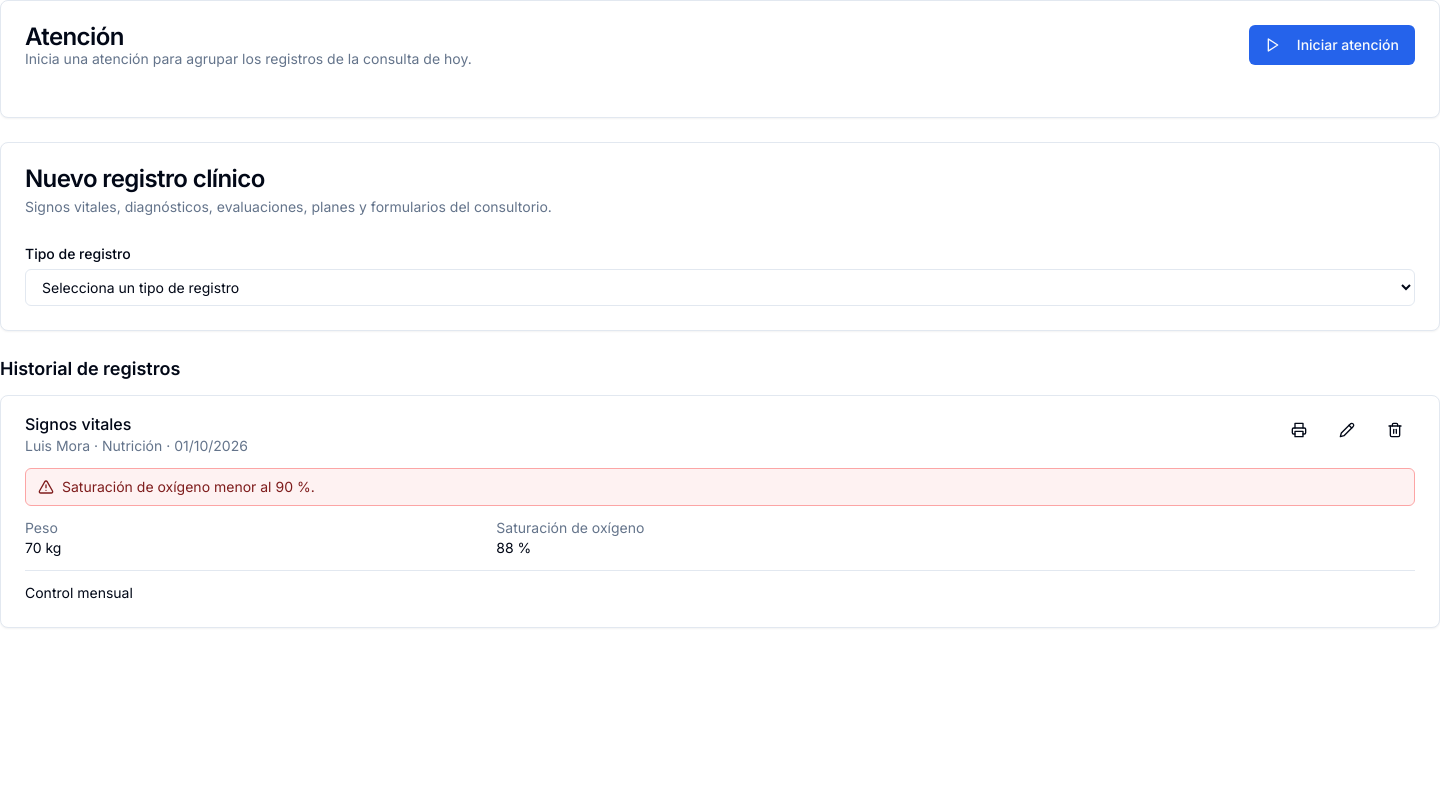
ClinicalRecordsTab › corrects a record with a reason and the data of its own version
Click the button named "Corregir Signos vitales": (1347, 430) [1327,412,1367,448]
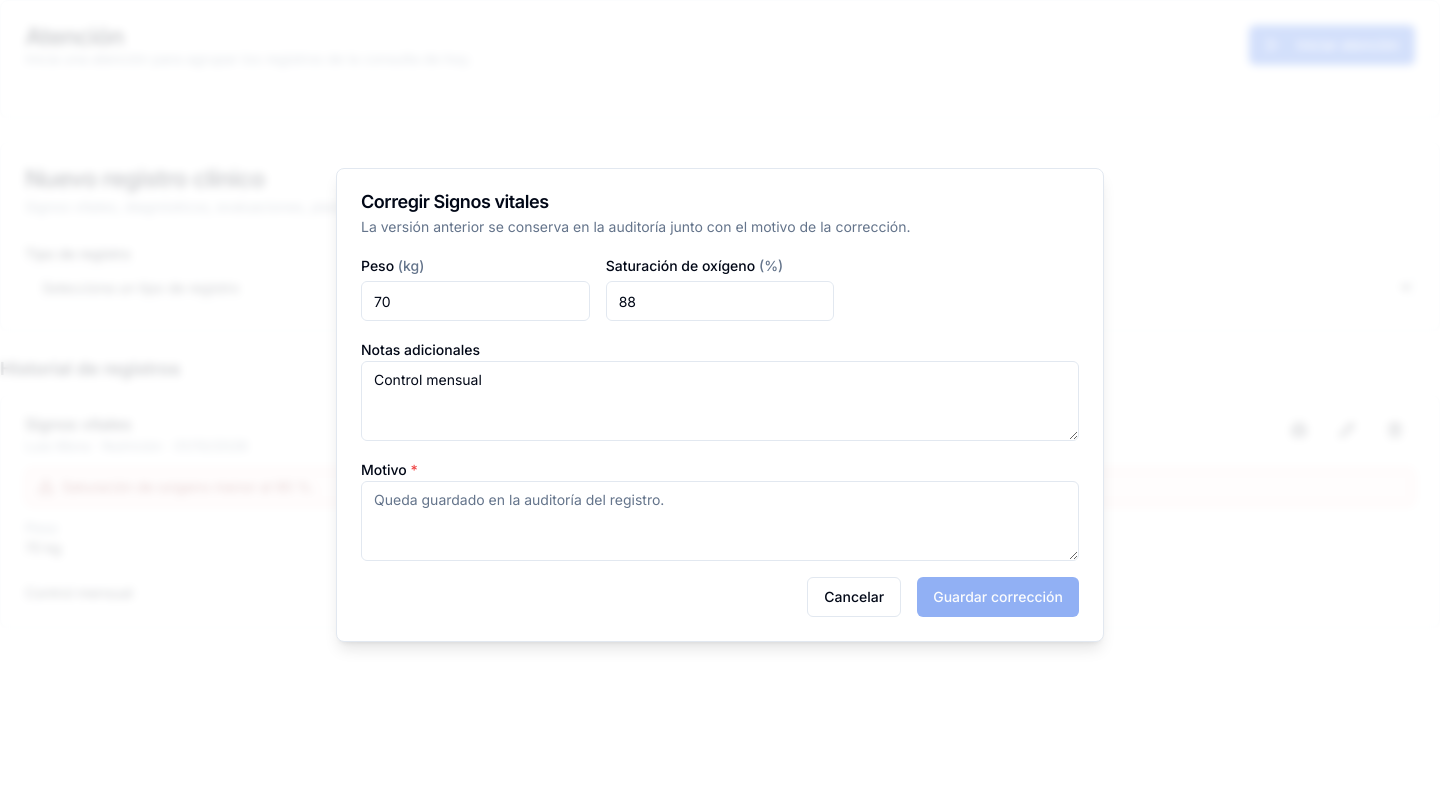
expect the button "Guardar corrección" is disabled: met, box [917,577,1079,617]
Replace the text in the number field with id "correct-weightKg" with "69.5": (475, 301) [361,281,590,321]
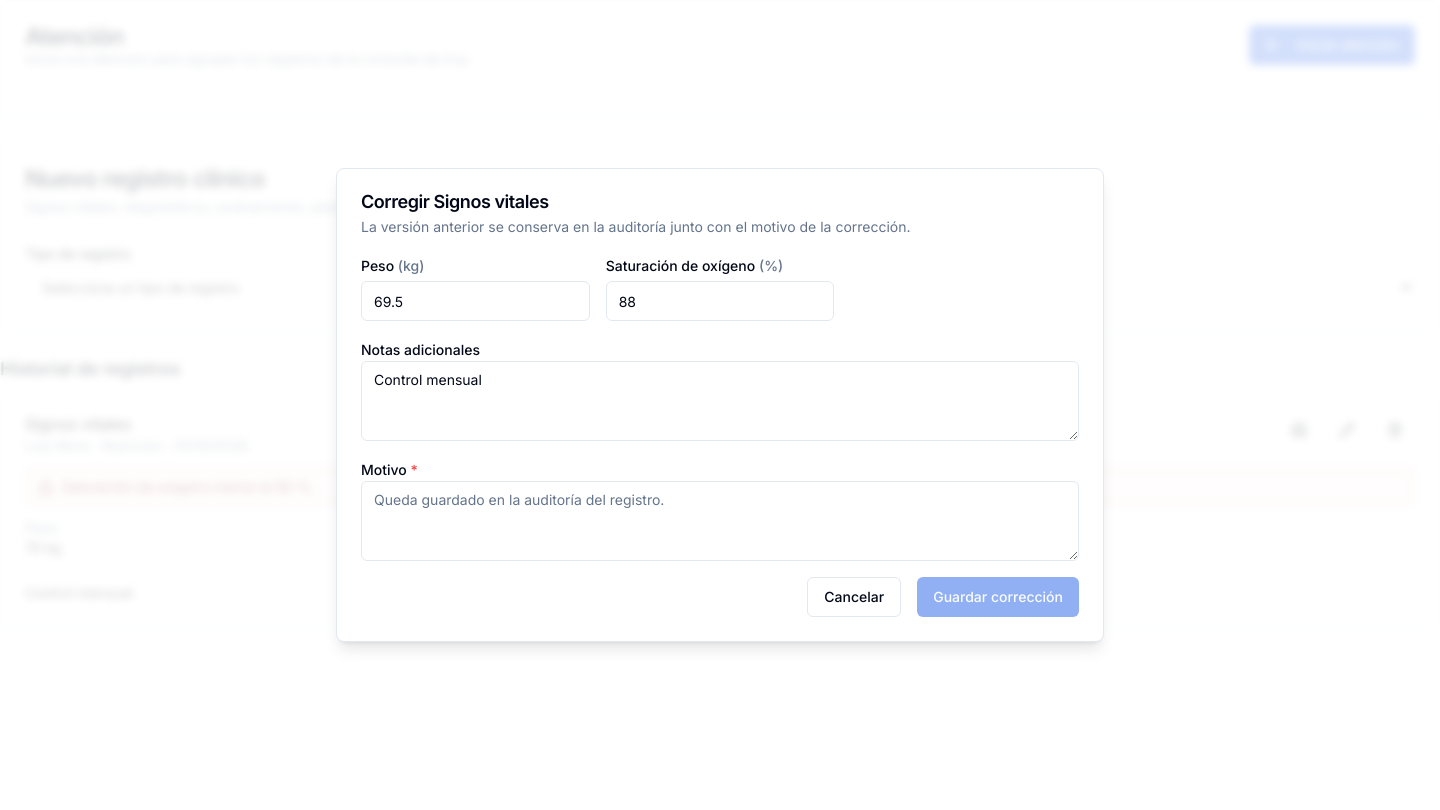
In the text box labelled "Motivo *": (720, 521) [361,481,1079,561], type " Peso mal digitado "
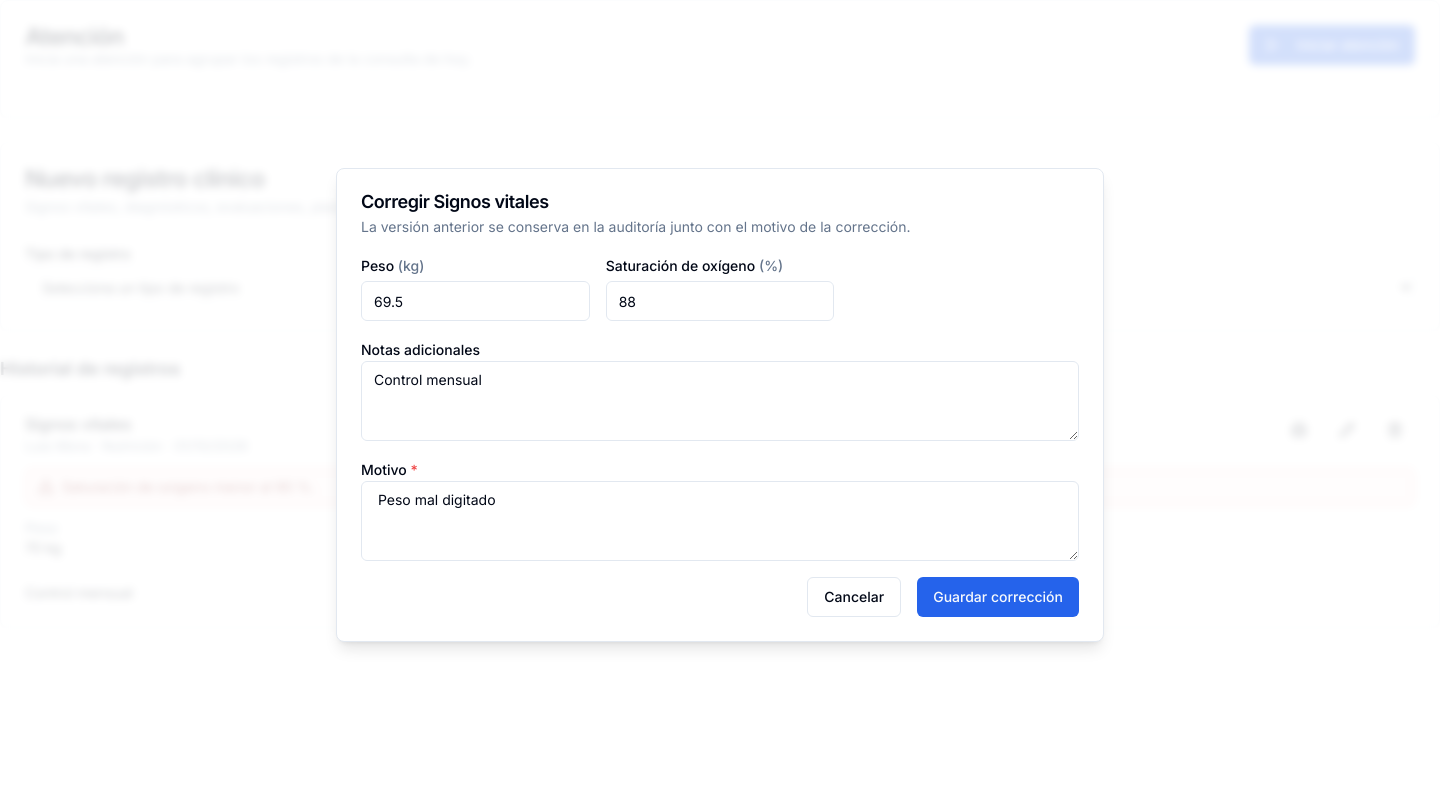
Click the button "Guardar corrección": (998, 597) [917,577,1079,617]
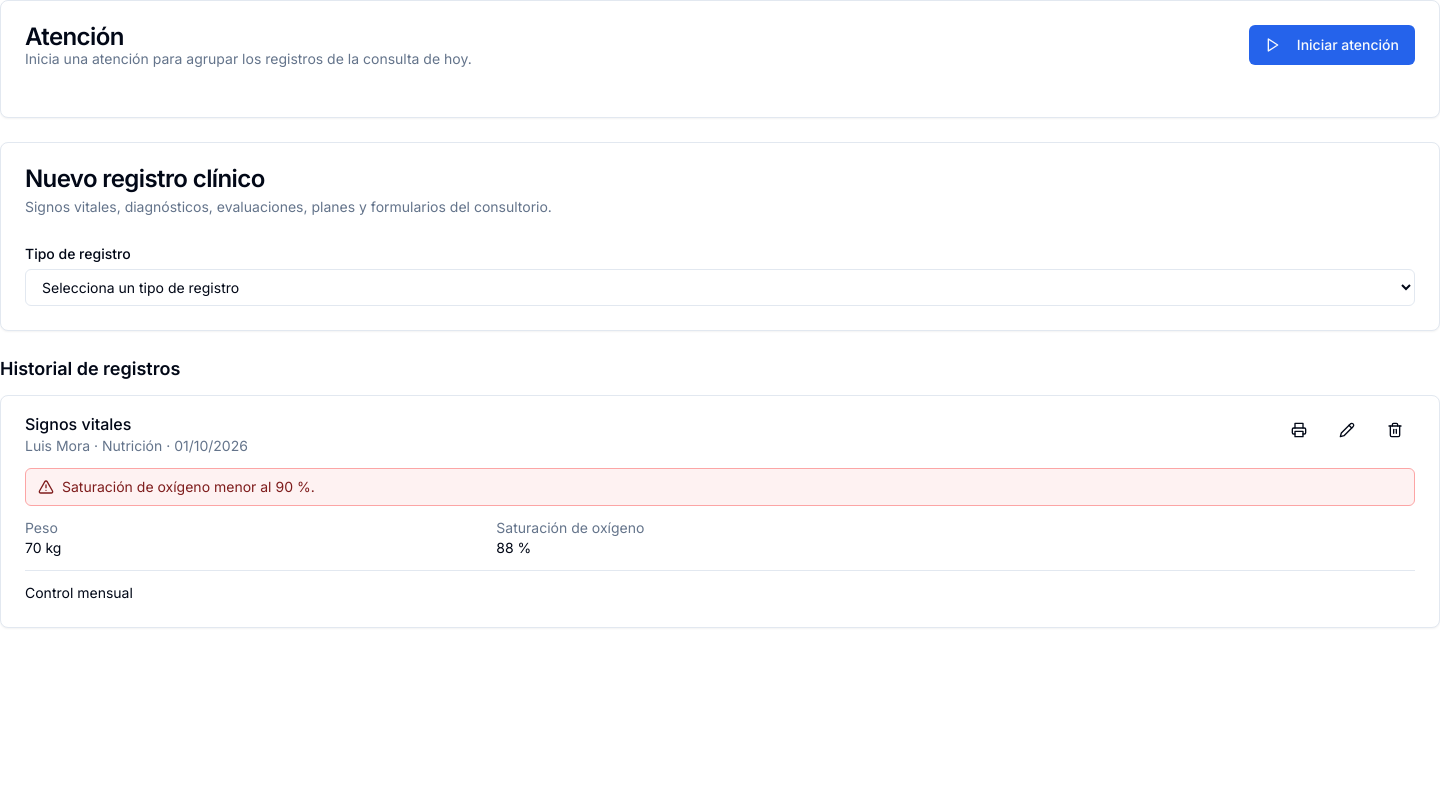
expect the button "Guardar corrección" is gone: met
